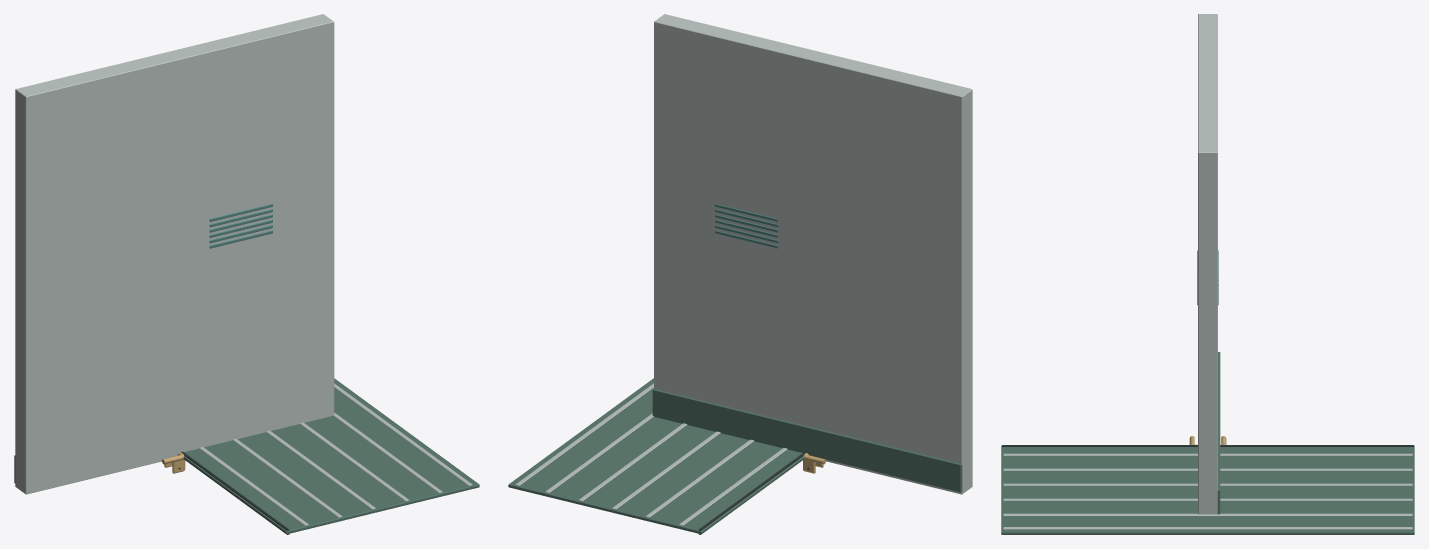
The model's file is door-hardware.glb.
3 views of the same model, side by side, from view 1: azimuth 30°, elevation 25°; view 2: azimuth 150°, elevation 25°; view 3: azimuth 270°, elevation 25° (orthographic). The views are drawn at different scales.
Parts seen in each view (by area): view 1: StairEnd_plaster, CrownShutter_green, CrownShutter_steel, Leaf_staff_utility_aqua; view 2: StairEnd_plaster, CrownShutter_green, StairEnd_green, CrownShutter_steel, Leaf_staff_utility_aqua; view 3: CrownShutter_green, StairEnd_plaster, CrownShutter_steel, CrownShutter_utility_gasket, StairEnd_green.
Part boxes in pixels (x1,y1,x2,y2): StairEnd_plaster: (15,14,334,494); CrownShutter_green: (183,378,479,534); CrownShutter_steel: (199,383,472,525); Leaf_staff_utility_aqua: (209,204,272,248); StairEnd_plaster: (654,14,972,494); CrownShutter_green: (508,378,804,534); StairEnd_green: (652,389,962,492); CrownShutter_steel: (515,383,787,525); Leaf_staff_utility_aqua: (715,204,778,248); CrownShutter_green: (1001,445,1414,534); StairEnd_plaster: (1198,14,1217,514); CrownShutter_steel: (1003,453,1412,529); CrownShutter_utility_gasket: (1002,445,1413,446); StairEnd_green: (1217,352,1220,514).
Size of the model in its own units: 2.8 by 3.19 by 3.14.
